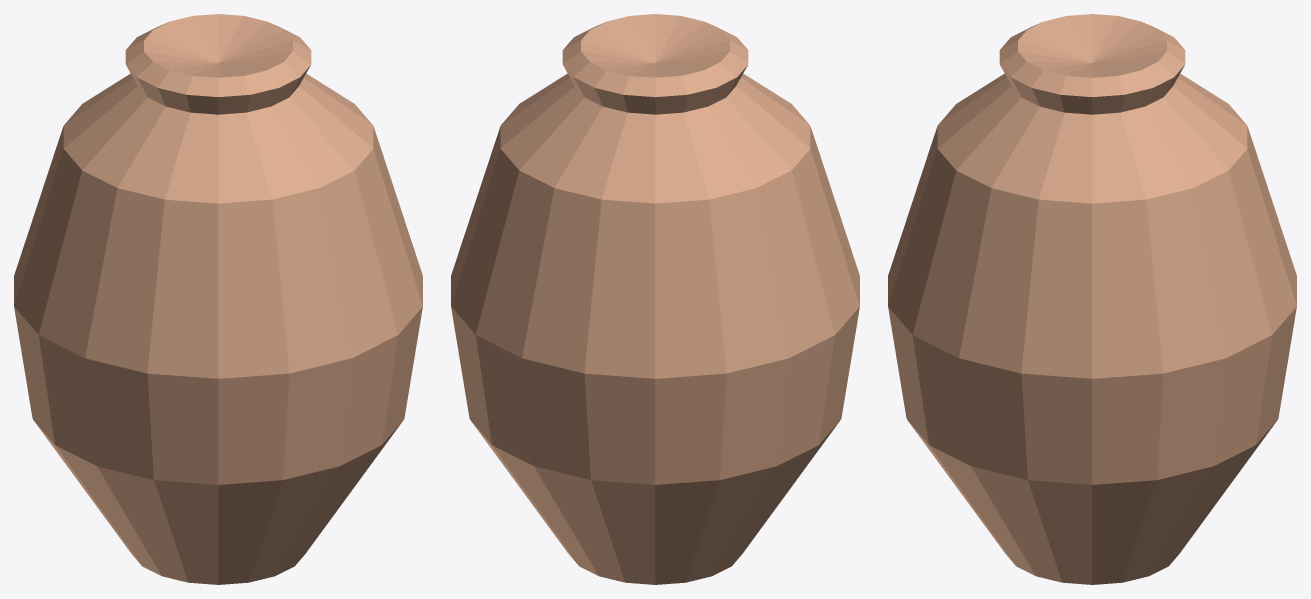
File: jar.glb
The picture shows the model from 3 angles, left to right: view 1: azimuth 30°, elevation 25°; view 2: azimuth 150°, elevation 25°; view 3: azimuth 270°, elevation 25°; orthographic projection.
Visible parts, largest first — view 1: jar; view 2: jar; view 3: jar.
Boxes of the visible parts, <box> form: jar: <box>14,14,422,584</box>; jar: <box>451,14,859,584</box>; jar: <box>888,14,1296,584</box>.
Size of the model in its own units: 0.66 by 0.88 by 0.65.
